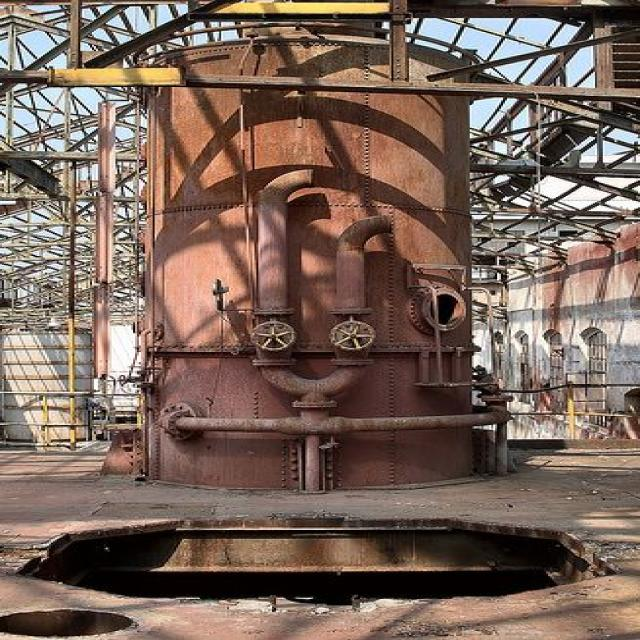Wheel Handle Valve Threaded: (251, 308, 303, 368), (329, 308, 376, 366)
